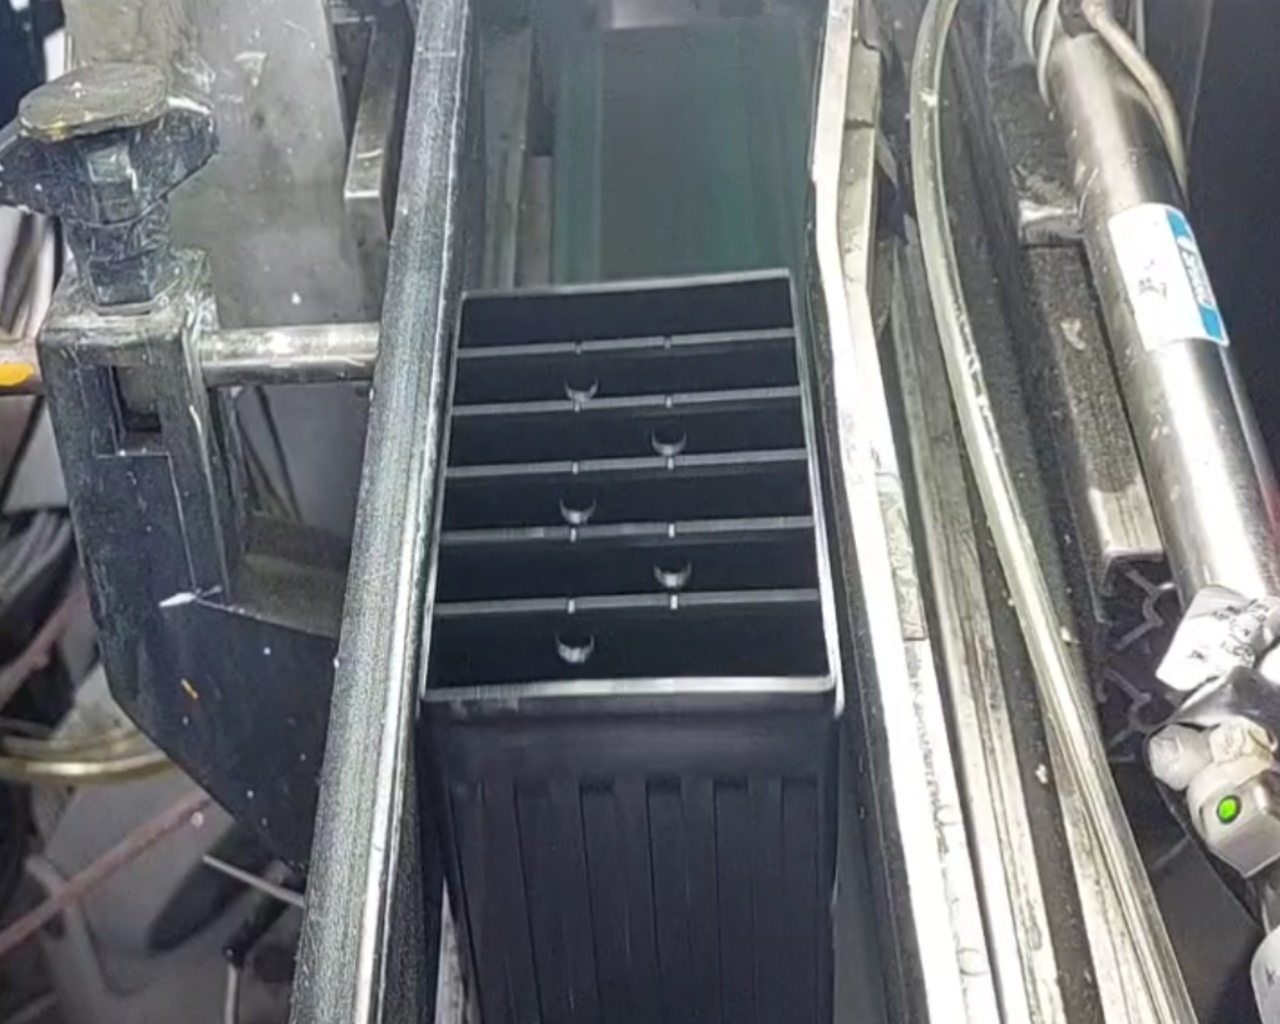box: (405, 255, 863, 732)
round: (640, 406, 698, 464), (546, 617, 605, 671), (550, 474, 606, 530), (640, 541, 700, 593), (555, 358, 606, 406)
